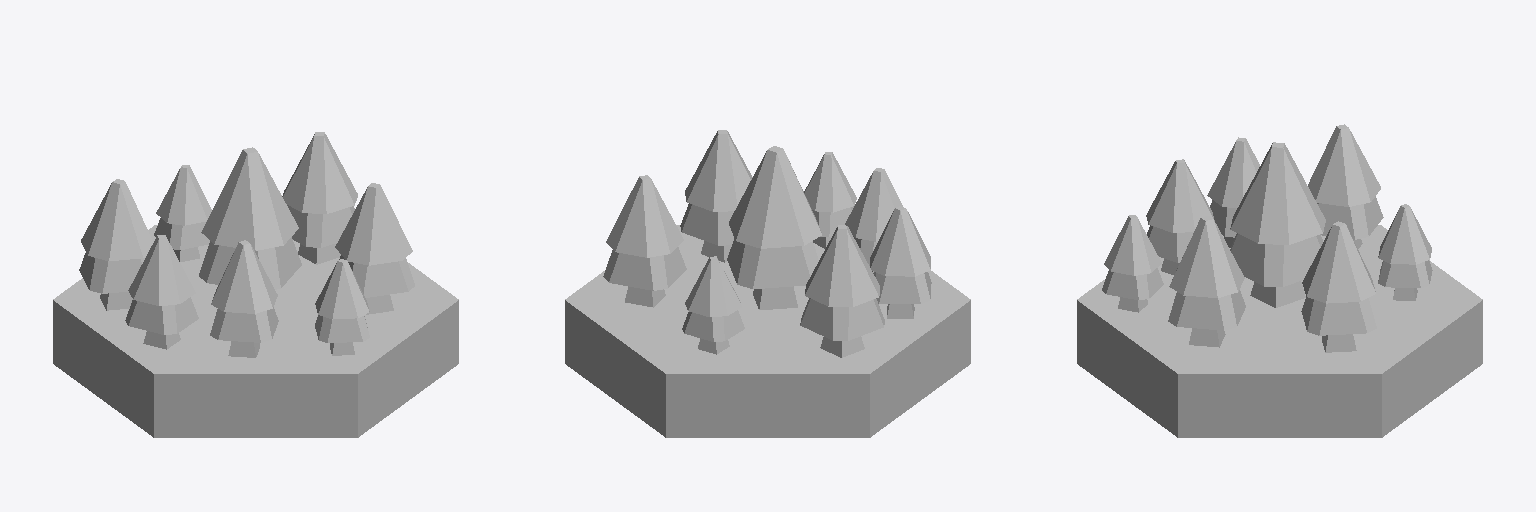
File: grass-forest.obj
3 views of the same model, side by side, from view 1: azimuth 30°, elevation 25°; view 2: azimuth 150°, elevation 25°; view 3: azimuth 270°, elevation 25° (orthographic).
Parts seen in each view (by area): view 1: grass-forest; view 2: grass-forest; view 3: grass-forest.
Part boxes in pixels (left/top/right/bottom): grass-forest: left=53, top=132, right=458, bottom=437; grass-forest: left=565, top=130, right=970, bottom=437; grass-forest: left=1077, top=124, right=1482, bottom=437.
Bounding box in the file's own units: 1 × 0.675 × 1.15.